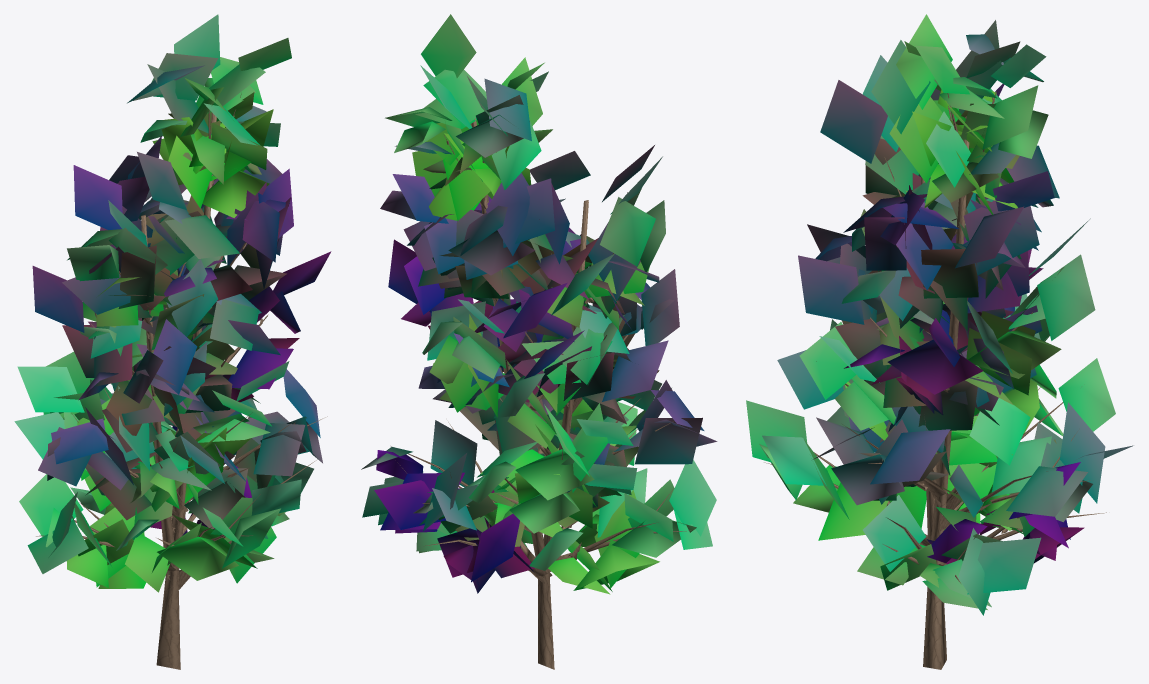
File: SugarMaple_LOD0_P3264_B2000_L1150_v02.fbx
The picture shows the model from 3 angles, left to right: view 1: azimuth 30°, elevation 25°; view 2: azimuth 150°, elevation 25°; view 3: azimuth 270°, elevation 25°; orthographic projection. The views are drawn at different scales.
Visible parts, largest first — view 1: sugar_maple_card_v01_1, sugar_maple_bark_v01_0; view 2: sugar_maple_card_v01_1, sugar_maple_bark_v01_0; view 3: sugar_maple_card_v01_1, sugar_maple_bark_v01_0.
Boxes of the visible parts, x1,y1,x2,y2 form: sugar_maple_card_v01_1: (14, 14, 331, 592); sugar_maple_bark_v01_0: (36, 93, 327, 669); sugar_maple_card_v01_1: (361, 14, 717, 594); sugar_maple_bark_v01_0: (391, 118, 691, 669); sugar_maple_card_v01_1: (746, 14, 1133, 615); sugar_maple_bark_v01_0: (764, 91, 1106, 669).
Size of the model in its own units: 1255 by 2382 by 1239.
